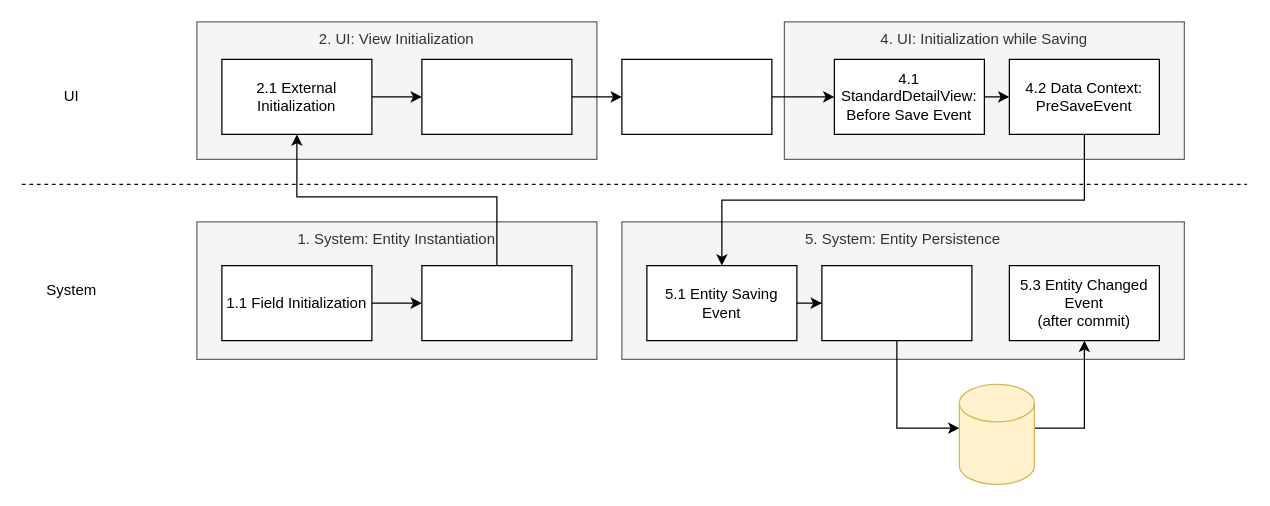
Image size: 1270x506. Some labels were removed from this diagram. The centre of each missing label's shape, as x and y in pixels:
1.2 @PostConstruct: point 496,302
2.2 Internal Initialization InitEntityEvent: point 496,96
3. Dependent Field Updates: point 696,96
5.2 Entity Changed Event (before commit): point 896,302
DB: point 996,433
